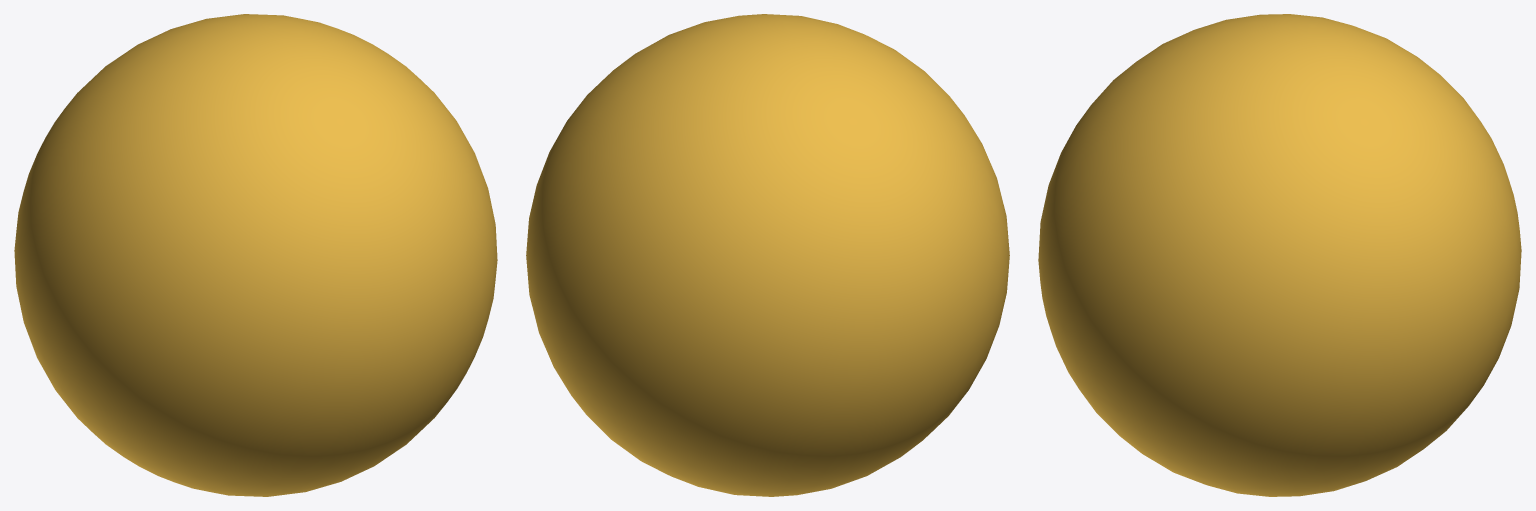
The model's file is Orb.fbx.
3 renders of one model, left to right at view 1: azimuth 30°, elevation 25°; view 2: azimuth 150°, elevation 25°; view 3: azimuth 270°, elevation 25°, orthographic.
Visible parts, largest first — view 1: Icosphere; view 2: Icosphere; view 3: Icosphere.
Boxes of the visible parts, bbox=[...] form: Icosphere: bbox=[14, 14, 497, 496]; Icosphere: bbox=[526, 14, 1009, 496]; Icosphere: bbox=[1038, 14, 1521, 496].
Bounding box in the file's own units: 95.85 × 96 × 95.89.
